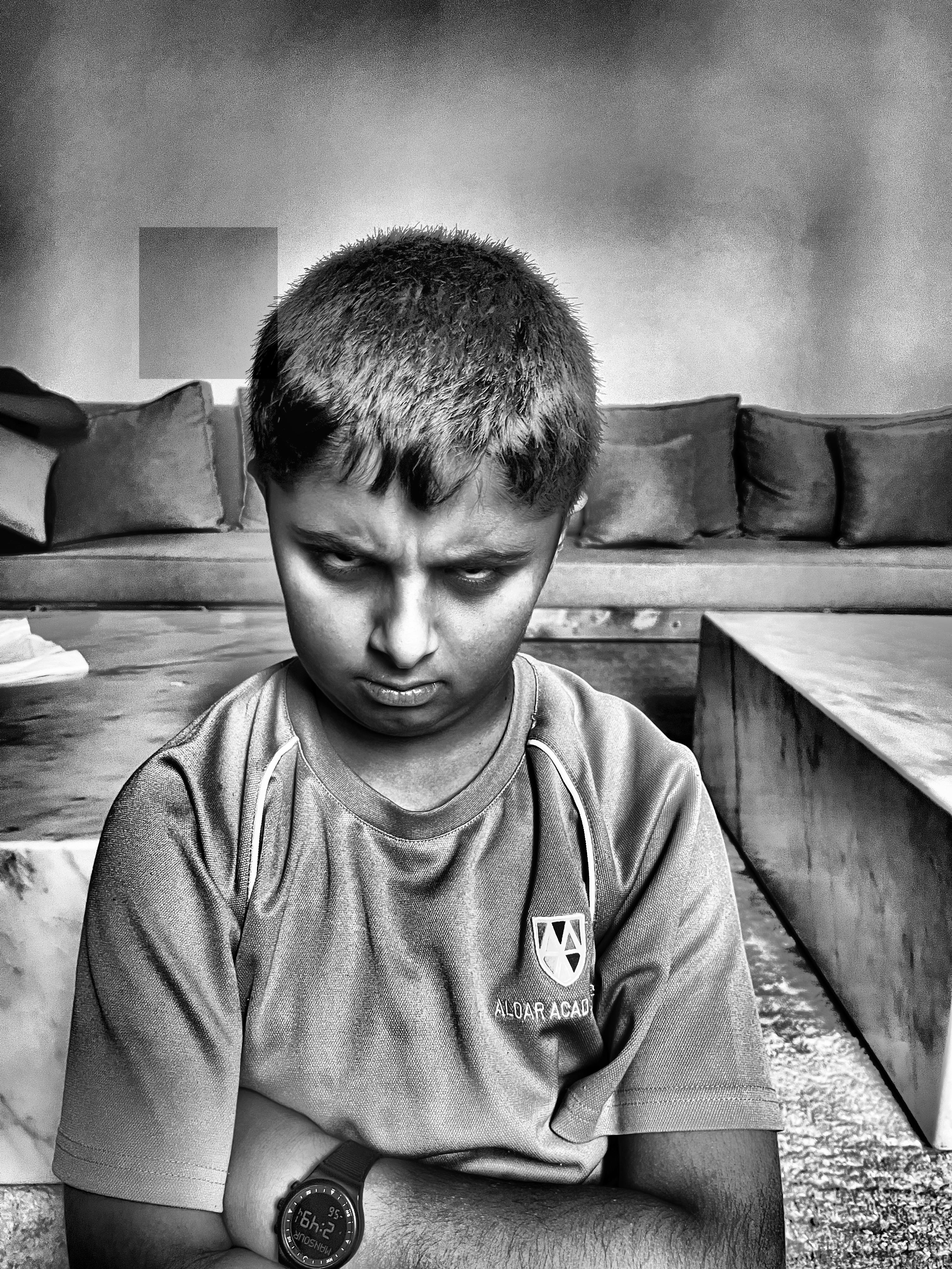angry: (274, 447, 547, 746)
